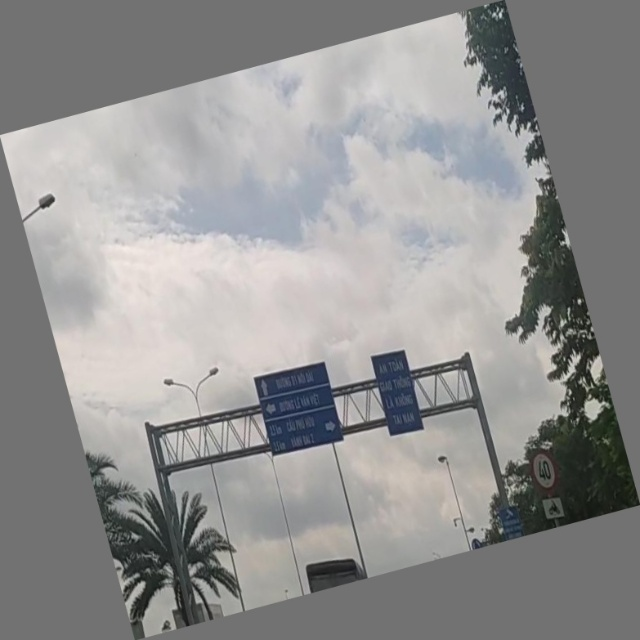P.127*40: (524, 442, 564, 497)
S.505a*Xe may: (539, 491, 567, 522)
